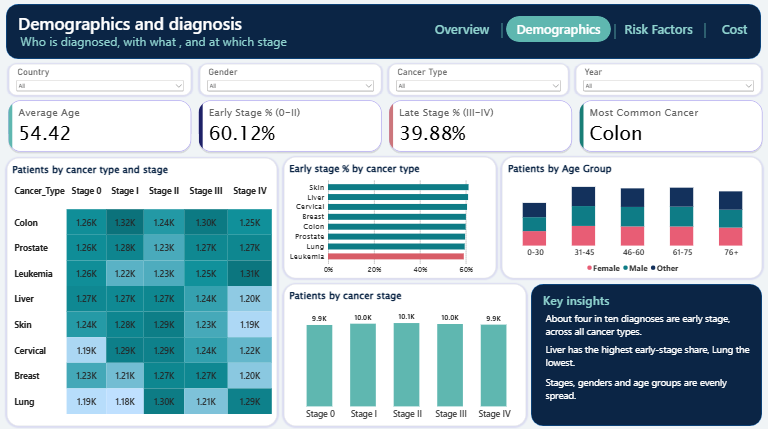

Layout of this report page (visuals, bound fields, positions):
{"tool":"powerbi","page":{"name":"Demographics & Diagnosis","canvas":[1920,1080],"ordinal":1},"visuals":[{"type":"slicer","fields":{"Values":["CancerData.Country_Region"]},"box":[22.5,160.6,455,77.5],"z":0,"group":"g2"},{"type":"cardVisual","fields":{"Data":["_Measures.Average Age","_Measures.Early Stage %","_Measures.Late Stage %","_Measures.Most Common Cancer"]},"box":[15,245,1898,140],"z":0},{"type":"shape","box":[15,10,1887.5,137.5],"z":1000,"group":"g1"},{"type":"slicer","fields":{"Values":["CancerData.Gender"]},"box":[500,160.6,452.5,77.5],"z":1000,"group":"g2"},{"type":"clusteredColumnChart","title":"Patients by cancer stage","fields":{"Category":["CancerData.Cancer_Stage"],"Y":["_Measures.Total Patients"]},"box":[710,710,605,355],"z":1000},{"type":"slicer","fields":{"Values":["CancerData.Cancer_Type"]},"box":[972.5,160.6,447.5,77.5],"z":2000,"group":"g2"},{"type":"columnChart","title":"Patients by Age Group","fields":{"Category":["CancerData.Age Group"],"Series":["CancerData.Gender"],"Y":["_Measures.Total Patients"]},"box":[1255,392.5,650,302.5],"z":2000},{"type":"slicer","fields":{"Values":["CancerData.Year"]},"box":[1440,160.6,462.5,77.5],"z":3000,"group":"g2"},{"type":"clusteredBarChart","title":"Early stage % by cancer type","fields":{"Category":["CancerData.Cancer_Type"],"Y":["_Measures.Early Stage %"]},"box":[710,392.5,530,302.5],"z":3000},{"type":"pivotTable","title":"Patients by cancer type and stage","fields":{"Columns":["CancerData.Cancer_Stage"],"Rows":["CancerData.Cancer_Type"],"Values":["_Measures.Total Patients"]},"box":[17.5,395,675,670],"z":4000},{"type":"group","id":"g1","title":"Group 1","box":[15,10,1887.5,137.5],"z":5000},{"type":"group","id":"g2","title":"Group 3","box":[22.5,160.6,1880,77.5],"z":6000},{"type":"shape","box":[1328.5,768,570,62],"z":7000},{"type":"shape","box":[22.5,70,722.9,65],"z":7001,"group":"g1"},{"type":"actionButton","box":[1265,40,262.5,65],"z":8000},{"type":"actionButton","box":[1062.5,40,185,65],"z":9000},{"type":"actionButton","box":[1547.5,40,197.5,65],"z":10000},{"type":"actionButton","box":[1777.5,40,117.5,65],"z":11000},{"type":"shape","box":[1197.5,57.5,115,37.5],"z":12000},{"type":"shape","box":[1705,57.5,115,37.5],"z":13000},{"type":"shape","box":[1480,60,115,37.5],"z":14000},{"type":"shape","box":[1327.5,710,577.5,355],"z":15000},{"type":"shape","box":[1328.4,769,568.1,82.1],"z":16000},{"type":"shape","box":[1328.4,846.7,568.1,82.1],"z":17000},{"type":"shape","box":[1328.4,928.8,568.1,82.1],"z":18000}]}

Visuals, with their boxes in screenshot pixels (x1, y1, x2, y2), scaled from the page's 1920x1080 canvas onto the 768x429 screenshot:
slicer - CancerData.Country_Region: locate(9, 64, 191, 95)
cardVisual - _Measures.Average Age x _Measures.Early Stage %: locate(6, 97, 765, 153)
shape: locate(6, 4, 761, 59)
slicer - CancerData.Gender: locate(200, 64, 381, 95)
"Patients by cancer stage" clusteredColumnChart: locate(284, 282, 526, 423)
slicer - CancerData.Cancer_Type: locate(389, 64, 568, 95)
"Patients by Age Group" columnChart: locate(502, 156, 762, 276)
slicer - CancerData.Year: locate(576, 64, 761, 95)
"Early stage % by cancer type" clusteredBarChart: locate(284, 156, 496, 276)
"Patients by cancer type and stage" pivotTable: locate(7, 157, 277, 423)
"Group 1" group: locate(6, 4, 761, 59)
"Group 3" group: locate(9, 64, 761, 95)
shape: locate(531, 305, 759, 330)
shape: locate(9, 28, 298, 54)
actionButton: locate(506, 16, 611, 42)
actionButton: locate(425, 16, 499, 42)
actionButton: locate(619, 16, 698, 42)
actionButton: locate(711, 16, 758, 42)
shape: locate(479, 23, 525, 38)
shape: locate(682, 23, 728, 38)
shape: locate(592, 24, 638, 39)
shape: locate(531, 282, 762, 423)
shape: locate(531, 305, 759, 338)
shape: locate(531, 336, 759, 369)
shape: locate(531, 369, 759, 402)
